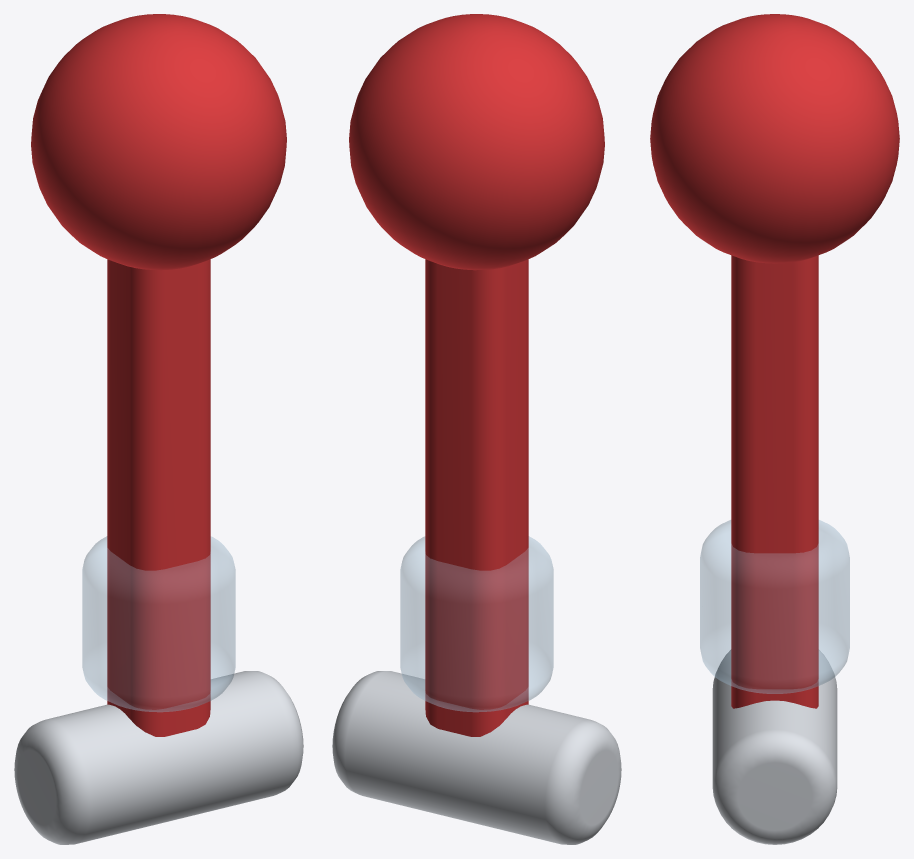
Rendered from lever_arm.glb.
3 views of the same model, side by side, from view 1: azimuth 30°, elevation 25°; view 2: azimuth 150°, elevation 25°; view 3: azimuth 270°, elevation 25° (orthographic). The views are drawn at different scales.
Parts seen in each view (by area): view 1: lever_arm; view 2: lever_arm; view 3: lever_arm.
Part boxes in pixels (<box>): lever_arm: <box>14,14,303,844</box>; lever_arm: <box>332,14,621,844</box>; lever_arm: <box>650,14,899,844</box>.
Bounding box in the file's own units: 0.22 × 0.68 × 0.2.
